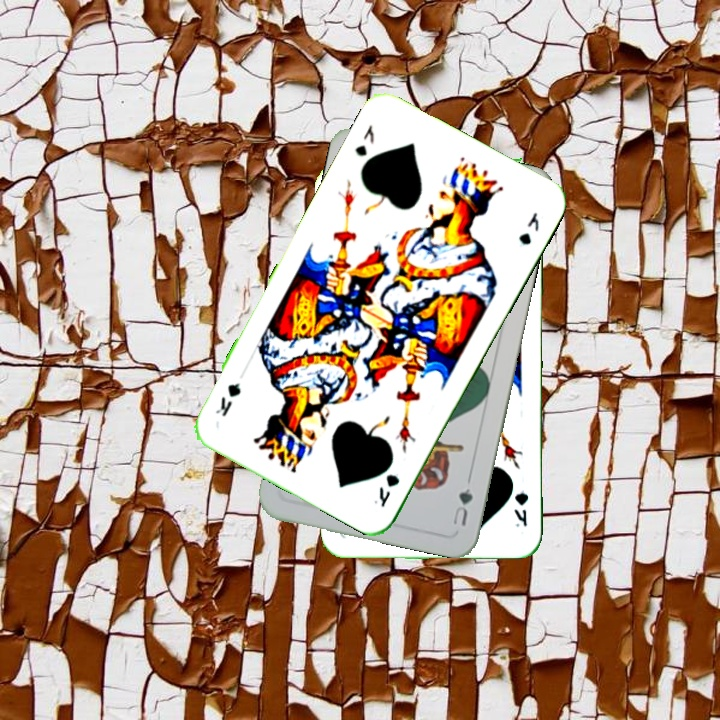GK: (369, 469, 402, 510), (350, 120, 377, 159), (510, 488, 531, 530)
GU: (448, 484, 476, 529)
